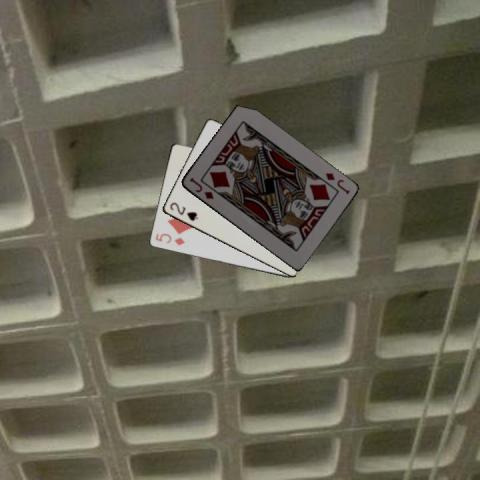2s: (167, 199, 199, 223)
5d: (152, 230, 186, 247)
Jd: (186, 174, 215, 201), (322, 170, 351, 195)
